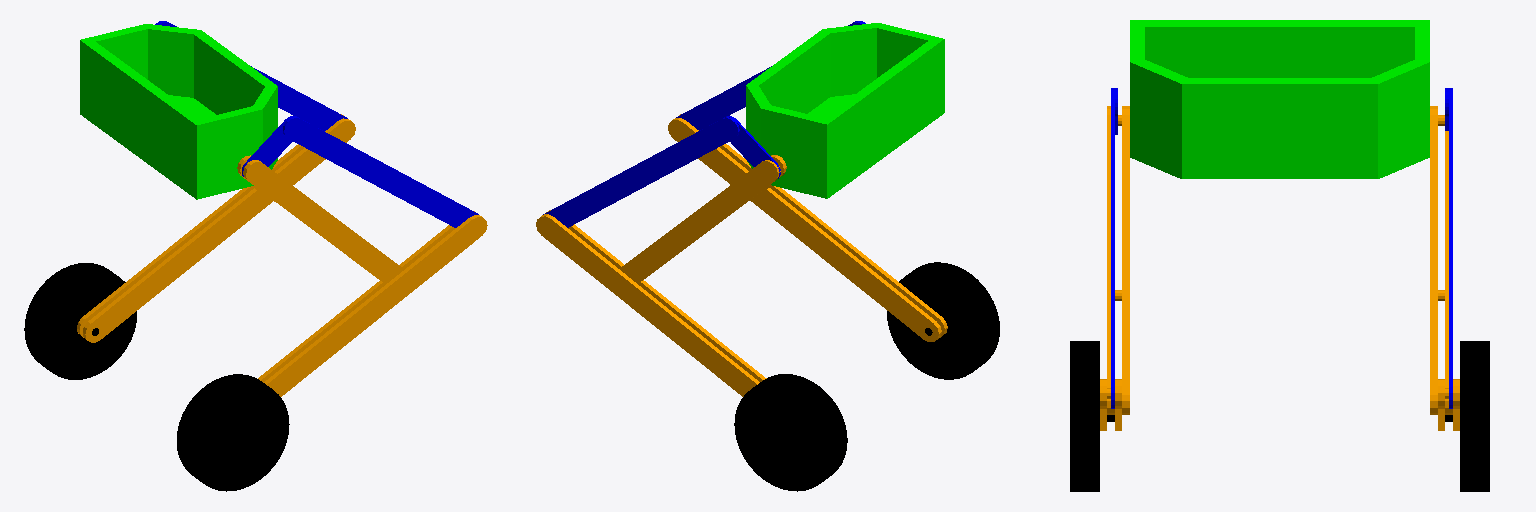
The robot description file, URDF, robot "robot_sim":
<?xml version="1.0" encoding="utf-8"?>
<robot name="robot_sim">
  <!--link name="dummy">
    <origin xyz="0 0 0" rpy="0 0 0"/>
  </link-->
  <link
    name="base_link">
    <inertial>
      <origin
        xyz="-0.0034292 -8.3267E-17 0.0068968"
        rpy="0 0 0" />
      <mass
        value="1.0017" />
      <inertia
        ixx="0.0044532"
        ixy="2.8047E-17"
        ixz="1.2735E-05"
        iyy="0.0017162"
        iyz="-1.2345E-17"
        izz="0.0052108" />
    </inertial>
    <visual>
      <origin
        xyz="0 0 0"
        rpy="0 0 0" />
      <geometry>
        <mesh
          filename="package://robot_sim/meshes/base_link.STL" />
      </geometry>
      <material
        name="green">
        <color
          rgba="0 1 0 1" />
      </material>
    </visual>
    <collision>
      <origin
        xyz="0 0 0"
        rpy="0 0 0" />
      <geometry>
        <mesh
          filename="package://robot_sim/meshes/base_link.STL" />
      </geometry>
    </collision>
  </link>
  <!--joint name="dummy_joint" type="fixed">
     <parent link="dummy"/>
     <child link="base_link"/>
   </joint-->
  <link
    name="r_hip">
    <inertial>
      <origin
        xyz="0.09809 2.498E-16 0.012449"
        rpy="0 0 0" />
      <mass
        value="0.086725" />
      <inertia
        ixx="5.1849E-06"
        ixy="-3.475E-19"
        ixz="-4.3335E-07"
        iyy="0.00033731"
        iyz="7.43E-21"
        izz="0.00033778" />
    </inertial>
    <visual>
      <origin
        xyz="0 0 0"
        rpy="0 0 0" />
      <geometry>
        <mesh
          filename="package://robot_sim/meshes/r_hip.STL" />
      </geometry>
      <material
        name="orange">
        <color
          rgba="1 0.65 0 1" />
      </material>
    </visual>
    <collision>
      <origin
        xyz="0 0 0"
        rpy="0 0 0" />
      <geometry>
        <mesh
          filename="package://robot_sim/meshes/r_hip.STL" />
      </geometry>
    </collision>
  </link>
  <joint
    name="base_rhip"
    type="continuous">
    <origin
      xyz="0 -0.095 0"
      rpy="1.5708 0.75994 0" />
    <parent
      link="base_link" />
    <child
      link="r_hip" />
    <axis
      xyz="0 0 1" />
  </joint>
  <link
    name="r_shank">
    <inertial>
      <origin
        xyz="0.058363 2.7756E-17 0.0075"
        rpy="0 0 0" />
      <mass
        value="0.11872" />
      <inertia
        ixx="7.0743E-06"
        ixy="-7.6656E-20"
        ixz="-6.6548E-18"
        iyy="0.00085901"
        iyz="1.3221E-21"
        izz="0.00085972" />
    </inertial>
    <visual>
      <origin
        xyz="0 0 0"
        rpy="0 0 0" />
      <geometry>
        <mesh
          filename="package://robot_sim/meshes/r_shank.STL" />
      </geometry>
      <material
        name="orange">
        <color
          rgba="1 0.65 0 1" />
      </material>
    </visual>
    <collision>
      <origin
        xyz="0 0 0"
        rpy="0 0 0" />
      <geometry>
        <mesh
          filename="package://robot_sim/meshes/r_shank.STL" />
      </geometry>
    </collision>
  </link>
  <joint
    name="r_hip_shank"
    type="continuous">
    <origin
      xyz="0.2 0 0.01"
      rpy="0 0 -1.8916" />
    <parent
      link="r_hip" />
    <child
      link="r_shank" />
    <axis
      xyz="0 0 -1" />
  </joint>
  <link
    name="r_wheel">
    <inertial>
      <origin
        xyz="2.6368E-16 1.3878E-17 0.024926"
        rpy="0 0 0" />
      <mass
        value="0.15143" />
      <inertia
        ixx="9.9483E-05"
        ixy="-1.8412E-34"
        ixz="9.4517E-19"
        iyy="9.9483E-05"
        iyz="4.5476E-21"
        izz="0.0001885" />
    </inertial>
    <visual>
      <origin
        xyz="0 0 0"
        rpy="0 0 0" />
      <geometry>
        <mesh
          filename="package://robot_sim/meshes/r_wheel.STL" />
      </geometry>
      <material
        name="black">
        <color
          rgba="0 0 0 1" />
      </material>
    </visual>
    <collision>
      <origin
        xyz="0 0 0"
        rpy="0 0 0" />
      <geometry>
        <mesh
          filename="package://robot_sim/meshes/r_wheel.STL" />
      </geometry>
    </collision>
  </link>
  <joint
    name="r_shank_wheel"
    type="continuous">
    <origin
      xyz="0.2 0 0"
      rpy="0 0 2.65150384709565" />
    <parent
      link="r_shank" />
    <child
      link="r_wheel" />
    <axis
      xyz="0 0 1" />
  </joint>
  <link
    name="r_r">
    <inertial>
      <origin
        xyz="0.025 -1.3878E-17 0.00125"
        rpy="0 0 0" />
      <mass
        value="0.006129" />
      <inertia
        ixx="2.0758E-07"
        ixy="8.2718E-22"
        ixz="1.3073E-20"
        iyy="2.1215E-06"
        iyz="-1.0061E-21"
        izz="2.3227E-06" />
    </inertial>
    <visual>
      <origin
        xyz="0 0 0"
        rpy="0 0 0" />
      <geometry>
        <mesh
          filename="package://robot_sim/meshes/r_r.STL" />
      </geometry>
      <material
        name="blue">
        <color
          rgba="0 0 1 1" />
      </material>
    </visual>
    <collision>
      <origin
        xyz="0 0 0"
        rpy="0 0 0" />
      <geometry>
        <mesh
          filename="package://robot_sim/meshes/r_r.STL" />
      </geometry>
    </collision>
  </link>
  <joint
    name="r_hip_r"
    type="continuous">
    <origin
      xyz="0 0 0.0125000000000005"
      rpy="0 0 1.43413627566753" />
    <parent
      link="r_hip" />
    <child
      link="r_r" />
    <axis
      xyz="0 0 1" />
  </joint>
  <link
    name="r_l">
    <inertial>
      <origin
        xyz="0.10794 -8.3267E-17 0.0012266"
        rpy="0 0 0" />
      <mass
        value="0.023571" />
      <inertia
        ixx="7.8625E-07"
        ixy="5.0293E-21"
        ixz="-5.9607E-08"
        iyy="0.00010916"
        iyz="-1.1659E-22"
        izz="0.00010992" />
    </inertial>
    <visual>
      <origin
        xyz="0 0 0"
        rpy="0 0 0" />
      <geometry>
        <mesh
          filename="package://robot_sim/meshes/r_l.STL" />
      </geometry>
      <material
        name="blue">
        <color
          rgba="0 0 1 1" />
      </material>
    </visual>
    <collision>
      <origin
        xyz="0 0 0"
        rpy="0 0 0" />
      <geometry>
        <mesh
          filename="package://robot_sim/meshes/r_l.STL" />
      </geometry>
    </collision>
  </link>
  <joint
    name="r_r_l"
    type="continuous">
    <origin
      xyz="0.05 0 0.0025"
      rpy="0 0 -1.3139" />
    <parent
      link="r_r" />
    <child
      link="r_l" />
    <axis
      xyz="0 0 -1" />
  </joint>
  <link
    name="l_hip">
    <inertial>
      <origin
        xyz="0.09809 9.3814E-15 0.012449"
        rpy="0 0 0" />
      <mass
        value="0.086725" />
      <inertia
        ixx="5.1849E-06"
        ixy="8.8727E-20"
        ixz="-4.3335E-07"
        iyy="0.00033731"
        iyz="1.0855E-21"
        izz="0.00033778" />
    </inertial>
    <visual>
      <origin
        xyz="0 0 0"
        rpy="0 0 0" />
      <geometry>
        <mesh
          filename="package://robot_sim/meshes/l_hip.STL" />
      </geometry>
      <material
        name="orange">
        <color
          rgba="1 0.65 0 1" />
      </material>
    </visual>
    <collision>
      <origin
        xyz="0 0 0"
        rpy="0 0 0" />
      <geometry>
        <mesh
          filename="package://robot_sim/meshes/l_hip.STL" />
      </geometry>
    </collision>
  </link>
  <joint
    name="base_lhip"
    type="continuous">
    <origin
      xyz="0 0.0949999999999995 0"
      rpy="-1.57079632679489 0.759938086259067 0" />
    <parent
      link="base_link" />
    <child
      link="l_hip" />
    <axis
      xyz="0 0 1" />
  </joint>
  <link
    name="l_shank">
    <inertial>
      <origin
        xyz="0.058363 -1.199E-13 0.0075"
        rpy="0 0 0" />
      <mass
        value="0.11872" />
      <inertia
        ixx="7.0743E-06"
        ixy="8.58E-16"
        ixz="6.4725E-18"
        iyy="0.00085901"
        iyz="1.1859E-20"
        izz="0.00085972" />
    </inertial>
    <visual>
      <origin
        xyz="0 0 0"
        rpy="0 0 0" />
      <geometry>
        <mesh
          filename="package://robot_sim/meshes/l_shank.STL" />
      </geometry>
      <material
        name="orange">
        <color
          rgba="1 0.65 0 1" />
      </material>
    </visual>
    <collision>
      <origin
        xyz="0 0 0"
        rpy="0 0 0" />
      <geometry>
        <mesh
          filename="package://robot_sim/meshes/l_shank.STL" />
      </geometry>
    </collision>
  </link>
  <joint
    name="l_hip_shank"
    type="continuous">
    <origin
      xyz="0.2 0 0.0100000000000024"
      rpy="0 0 1.89156576083605" />
    <parent
      link="l_hip" />
    <child
      link="l_shank" />
    <axis
      xyz="0 0 -1" />
  </joint>
  <link
    name="l_wheel">
    <inertial>
      <origin
        xyz="1.5261E-13 5.0931E-13 0.024926"
        rpy="0 0 0" />
      <mass
        value="0.15143" />
      <inertia
        ixx="9.9483E-05"
        ixy="5.1272E-34"
        ixz="-9.329E-19"
        iyy="9.9483E-05"
        iyz="-6.0938E-20"
        izz="0.0001885" />
    </inertial>
    <visual>
      <origin
        xyz="0 0 0"
        rpy="0 0 0" />
      <geometry>
        <mesh
          filename="package://robot_sim/meshes/l_wheel.STL" />
      </geometry>
      <material
        name="black">
        <color
          rgba="0 0 0 1" />
      </material>
    </visual>
    <collision>
      <origin
        xyz="0 0 0"
        rpy="0 0 0" />
      <geometry>
        <mesh
          filename="package://robot_sim/meshes/l_wheel.STL" />
      </geometry>
    </collision>
  </link>
  <joint
    name="l_shank_wheel"
    type="continuous">
    <origin
      xyz="0.199999999999968 0 0"
      rpy="0 0 -2.65150384709512" />
    <parent
      link="l_shank" />
    <child
      link="l_wheel" />
    <axis
      xyz="0 0 1" />
  </joint>
  <link
    name="l_r">
    <inertial>
      <origin
        xyz="0.025 -3.4361E-14 0.00125"
        rpy="0 0 0" />
      <mass
        value="0.006129" />
      <inertia
        ixx="2.0758E-07"
        ixy="3.3827E-18"
        ixz="-1.2363E-20"
        iyy="2.1215E-06"
        iyz="-7.3986E-22"
        izz="2.3227E-06" />
    </inertial>
    <visual>
      <origin
        xyz="0 0 0"
        rpy="0 0 0" />
      <geometry>
        <mesh
          filename="package://robot_sim/meshes/l_r.STL" />
      </geometry>
      <material
        name="blue">
        <color
          rgba="0 0 1 1" />
      </material>
    </visual>
    <collision>
      <origin
        xyz="0 0 0"
        rpy="0 0 0" />
      <geometry>
        <mesh
          filename="package://robot_sim/meshes/l_r.STL" />
      </geometry>
    </collision>
  </link>
  <joint
    name="l_hip_r"
    type="continuous">
    <origin
      xyz="0 0 0.0150000000000004"
      rpy="0 0 -1.43413627566782" />
    <parent
      link="l_hip" />
    <child
      link="l_r" />
    <axis
      xyz="0 0 1" />
  </joint>
  <link
    name="l_l">
    <inertial>
      <origin
        xyz="0.10794 -3.475E-14 0.0012266"
        rpy="0 0 0" />
      <mass
        value="0.023571" />
      <inertia
        ixx="7.8625E-07"
        ixy="-1.5411E-19"
        ixz="-5.9607E-08"
        iyy="0.00010916"
        iyz="6.5356E-23"
        izz="0.00010992" />
    </inertial>
    <visual>
      <origin
        xyz="0 0 0"
        rpy="0 0 0" />
      <geometry>
        <mesh
          filename="package://robot_sim/meshes/l_l.STL" />
      </geometry>
      <material
        name="blue">
        <color
          rgba="0 0 1 1" />
      </material>
    </visual>
    <collision>
      <origin
        xyz="0 0 0"
        rpy="0 0 0" />
      <geometry>
        <mesh
          filename="package://robot_sim/meshes/l_l.STL" />
      </geometry>
    </collision>
  </link>
  <joint
    name="l_r_l"
    type="continuous">
    <origin
      xyz="0.05 0 0.0025"
      rpy="0 0 1.3139" />
    <parent
      link="l_r" />
    <child
      link="l_l" />
    <axis
      xyz="0 0 -1" />
  </joint>

  <!-- Adding transmissions for joint controllers -->
  <transmission name="l_hip_trans">
    <type>transmission_interface/SimpleTransmission</type>
    <joint name="base_lhip">
      <hardwareInterface>hardware_interface/EffortJointInterface</hardwareInterface>
    </joint>
    <actuator name="l_hip_motor">
      <mechanicalReduction>100</mechanicalReduction>
      <!--hardwareInterface>hardware_interface/EffortJointInterface</hardwareInterface-->
    </actuator>
  </transmission>

  <transmission name="r_hip_trans">
    <type>transmission_interface/SimpleTransmission</type>
    <joint name="base_rhip">
      <hardwareInterface>hardware_interface/EffortJointInterface</hardwareInterface>
    </joint>
    <actuator name="l_hip_motor">
      <mechanicalReduction>100</mechanicalReduction>
      <!--hardwareInterface>hardware_interface/EffortJointInterface</hardwareInterface-->
    </actuator>
  </transmission>

  <transmission name="l_knee_trans">
    <type>transmission_interface/SimpleTransmission</type>
    <joint name="l_hip_r">
      <hardwareInterface>hardware_interface/EffortJointInterface</hardwareInterface>
    </joint>
    <actuator name="l_knee_motor">
      <mechanicalReduction>100</mechanicalReduction>
      <!--hardwareInterface>hardware_interface/EffortJointInterface</hardwareInterface-->
    </actuator>
  </transmission>

  <transmission name="r_knee_trans">
    <type>transmission_interface/SimpleTransmission</type>
    <joint name="r_hip_r">
      <hardwareInterface>hardware_interface/EffortJointInterface</hardwareInterface>
    </joint>
    <actuator name="r_knee_motor">
      <mechanicalReduction>100</mechanicalReduction>
      <!--hardwareInterface>hardware_interface/EffortJointInterface</hardwareInterface-->
    </actuator>
  </transmission>

  <transmission name="l_wheel_trans">
    <type>transmission_interface/SimpleTransmission</type>
    <joint name="l_shank_wheel">
      <hardwareInterface>hardware_interface/VelocityJointInterface</hardwareInterface>
      <!--hardwareInterface>hardware_interface/EffortJointInterface</hardwareInterface-->
    </joint>
    <actuator name="l_wheel_motor">
      <mechanicalReduction>1</mechanicalReduction>
      <hardwareInterface>hardware_interface/VelocityJointInterface</hardwareInterface>
      <!--hardwareInterface>hardware_interface/EffortJointInterface</hardwareInterface-->
    </actuator>
  </transmission>

  <transmission name="r_wheel_trans">
    <type>transmission_interface/SimpleTransmission</type>
    <joint name="r_shank_wheel">
      <hardwareInterface>hardware_interface/VelocityJointInterface</hardwareInterface>
      <!--hardwareInterface>hardware_interface/EffortJointInterface</hardwareInterface-->
    </joint>
    <actuator name="r_wheel_motor">
      <mechanicalReduction>1</mechanicalReduction>
      <hardwareInterface>hardware_interface/VelocityJointInterface</hardwareInterface>
      <!--hardwareInterface>hardware_interface/EffortJointInterface</hardwareInterface-->
    </actuator>
  </transmission>

  <gazebo>
        <plugin name="gazebo_ros_control" filename="libgazebo_ros_control.so"/>
        <robotNamespace>/</robotNamespace>
  </gazebo>

</robot>

--- Facts derived from the render (not from the file) ---
Views: 3 orthographic renders of the robot side by side, from view 1: azimuth 30°, elevation 25°; view 2: azimuth 150°, elevation 25°; view 3: azimuth 270°, elevation 25°.
Robot: robot_sim — 11 links, 10 joints (10 continuous); root link base_link; default pose: all joints at 0.
Links seen in each view (by area): view 1: base_link, r_wheel, l_wheel, l_shank, r_shank, r_l, r_hip, l_l, r_r; view 2: base_link, l_wheel, r_wheel, r_shank, l_shank, l_l, l_hip, r_l, l_r; view 3: base_link, r_wheel, l_wheel, r_hip, l_hip, r_l, l_l, r_shank, l_shank.
Link boxes in pixels (x1,y1,x2,y2): base_link: [80, 24, 277, 199]; r_wheel: [177, 374, 289, 491]; l_wheel: [24, 263, 136, 379]; l_shank: [77, 114, 355, 342]; r_shank: [258, 211, 487, 396]; r_l: [283, 117, 478, 227]; r_hip: [237, 155, 404, 283]; l_l: [155, 21, 347, 130]; r_r: [242, 116, 298, 176]; base_link: [746, 23, 944, 198]; l_wheel: [734, 374, 847, 491]; r_wheel: [887, 262, 999, 379]; r_shank: [668, 114, 947, 341]; l_shank: [536, 210, 766, 396]; l_l: [543, 117, 739, 227]; l_hip: [620, 155, 786, 283]; r_l: [676, 21, 865, 130]; l_r: [724, 116, 780, 178]; base_link: [1130, 20, 1429, 178]; r_wheel: [1070, 341, 1114, 491]; l_wheel: [1445, 341, 1489, 491]; r_hip: [1107, 106, 1129, 414]; l_hip: [1430, 106, 1452, 414]; r_l: [1111, 88, 1114, 408]; l_l: [1449, 88, 1452, 408]; r_shank: [1100, 379, 1121, 430]; l_shank: [1438, 379, 1459, 430].
Bounding box of the posed robot: 0.307 × 0.28 × 0.3317 m (x, y, z).
Meshes: 11 distinct files referenced, 11 mesh visuals loaded (11 binary STL).